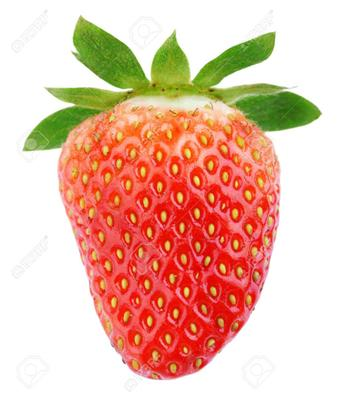strawberry: (0, 0, 337, 400)
